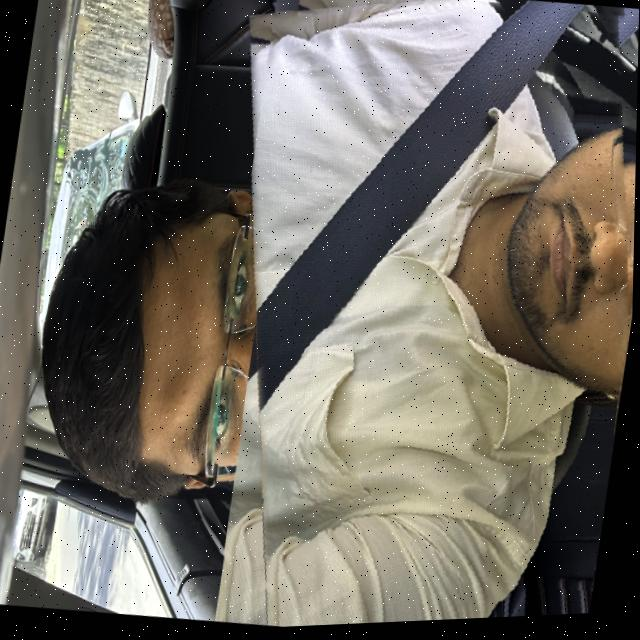seatbelt: (188, 0, 640, 633)
